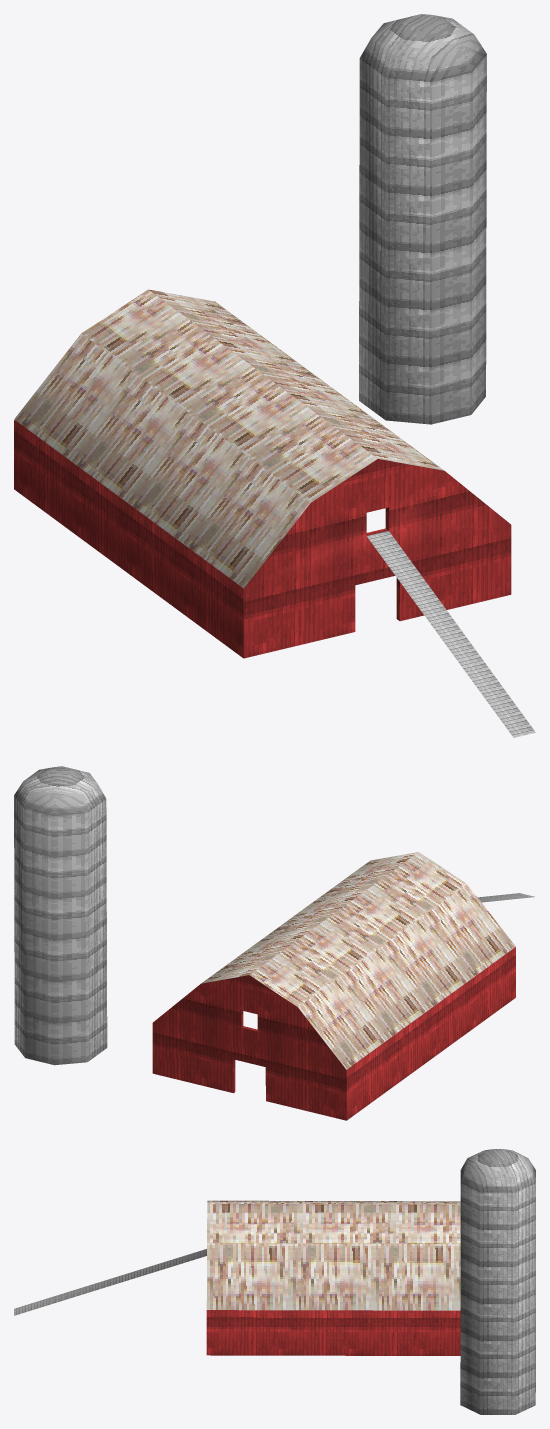
The model's file is barn.obj.
3 views of the same model, one above another, from view 1: azimuth 30°, elevation 25°; view 2: azimuth 150°, elevation 25°; view 3: azimuth 270°, elevation 25° (orthographic). The views are drawn at different scales.
Visible parts, largest first — view 1: 2, 3, object 1; view 2: 2, 3, object 1; view 3: 2, 3, object 1.
Boxes of the visible parts, bbox=[...] form: 2: bbox=[14, 289, 443, 588]; 3: bbox=[359, 14, 535, 737]; object 1: bbox=[14, 420, 511, 658]; 2: bbox=[201, 852, 515, 1069]; 3: bbox=[14, 766, 534, 1065]; object 1: bbox=[152, 947, 515, 1120]; 2: bbox=[206, 1200, 460, 1310]; 3: bbox=[14, 1149, 535, 1414]; object 1: bbox=[206, 1310, 460, 1355].
Size of the model in its own units: 4.03 by 3.21 by 6.18.
3 materials, 3 textured.
